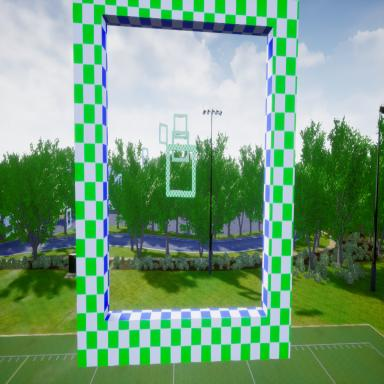gate: (166, 143, 196, 199), (172, 130, 190, 162), (173, 113, 188, 139)
